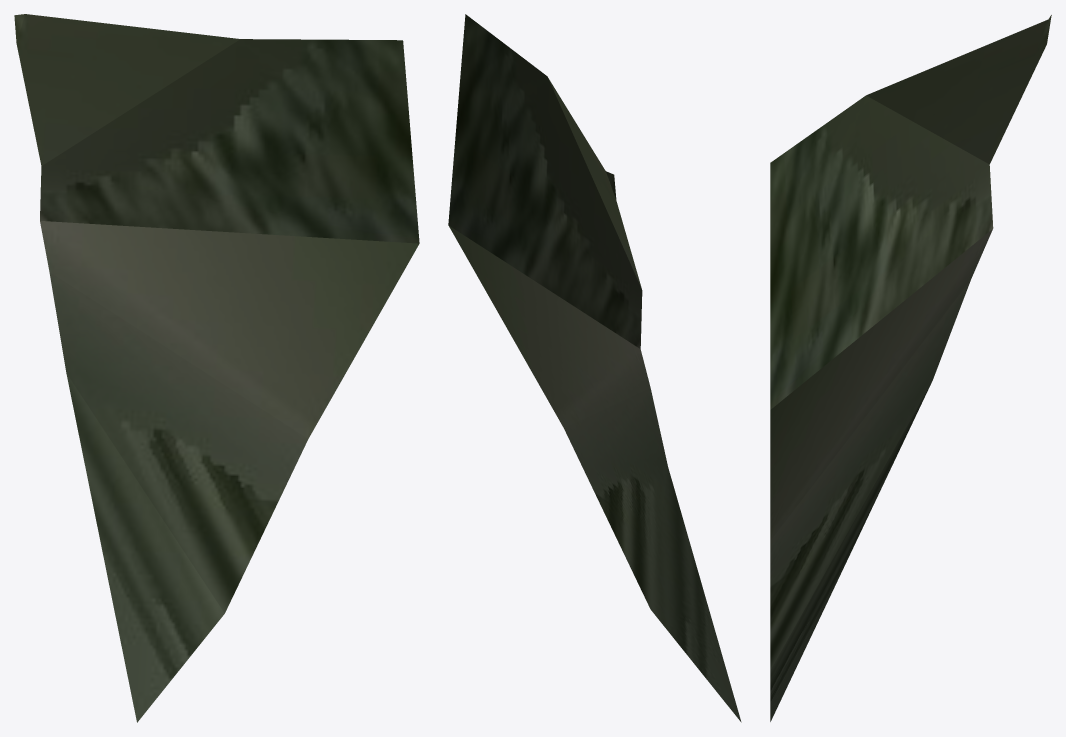
3 renders of one model, left to right at view 1: azimuth 30°, elevation 25°; view 2: azimuth 150°, elevation 25°; view 3: azimuth 270°, elevation 25°, orthographic. The views are drawn at different scales.
Size of the model in its own units: 1.25 by 2.62 by 0.944.
1 material, 1 textured.
